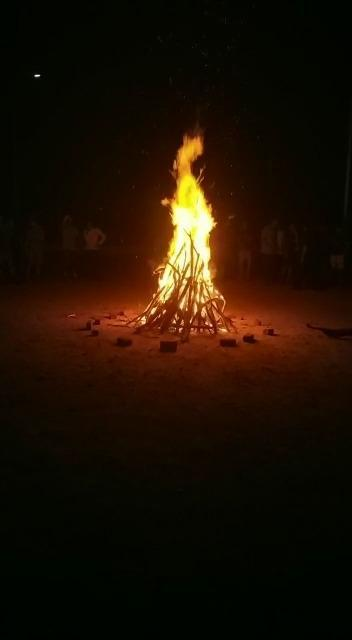fire: (142, 116, 238, 329)
